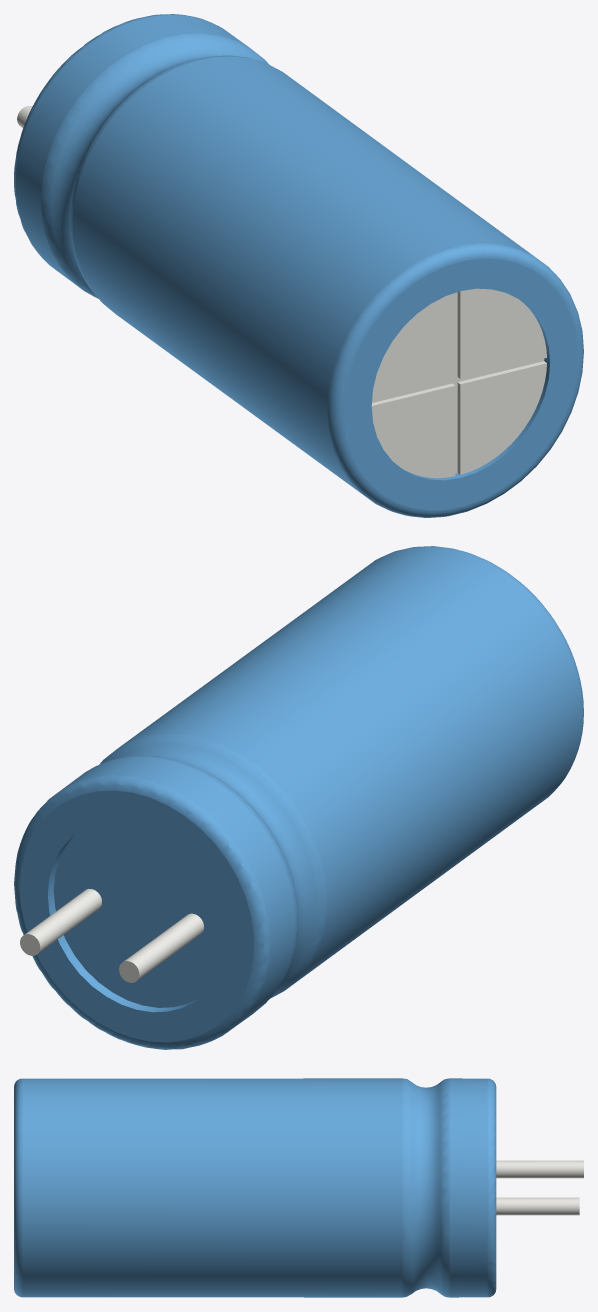
File: C_Radial_D5.0mm_H11.0mm_P2.00mm.glb
3 renders of one model, top to bottom at view 1: azimuth 30°, elevation 25°; view 2: azimuth 150°, elevation 25°; view 3: azimuth 270°, elevation 25°, orthographic. The views are drawn at different scales.
Parts seen in each view (by area): view 1: Shape_IndexedFaceSet.012, Shape_IndexedFaceSet.014, Shape_IndexedFaceSet.008, Shape_IndexedFaceSet.013, Shape_IndexedFaceSet.010, Shape_IndexedFaceSet.018, Shape_IndexedFaceSet.027, Shape_IndexedFaceSet.021, Shape_IndexedFaceSet.024, Shape_IndexedFaceSet.009, Shape_IndexedFaceSet.011, Shape_IndexedFaceSet.016 (+2 smaller); view 2: Shape_IndexedFaceSet.012, Shape_IndexedFaceSet.002, Shape_IndexedFaceSet.005, Shape_IndexedFaceSet.008, Shape_IndexedFaceSet.007, Shape_IndexedFaceSet.010, Shape_IndexedFaceSet.011, Shape_IndexedFaceSet.004, Shape_IndexedFaceSet.001, Shape_IndexedFaceSet.003, Shape_IndexedFaceSet.009, Shape_IndexedFaceSet.013; view 3: Shape_IndexedFaceSet.012, Shape_IndexedFaceSet.008, Shape_IndexedFaceSet.010, Shape_IndexedFaceSet.009, Shape_IndexedFaceSet.011, Shape_IndexedFaceSet.007, Shape_IndexedFaceSet.013, Shape_IndexedFaceSet.004, Shape_IndexedFaceSet.001.
Boxes of the visible parts, box(x1,y1,x2,y2) form: Shape_IndexedFaceSet.012: box(72, 56, 533, 492); Shape_IndexedFaceSet.014: box(344, 258, 577, 510); Shape_IndexedFaceSet.008: box(15, 14, 249, 289); Shape_IndexedFaceSet.013: box(327, 243, 583, 517); Shape_IndexedFaceSet.010: box(51, 42, 258, 289); Shape_IndexedFaceSet.018: box(460, 363, 546, 474); Shape_IndexedFaceSet.027: box(460, 288, 546, 378); Shape_IndexedFaceSet.021: box(371, 386, 455, 478); Shape_IndexedFaceSet.024: box(372, 293, 455, 400); Shape_IndexedFaceSet.009: box(41, 33, 269, 298); Shape_IndexedFaceSet.011: box(70, 55, 265, 300); Shape_IndexedFaceSet.016: box(372, 292, 544, 473); Shape_IndexedFaceSet.012: box(119, 546, 582, 989); Shape_IndexedFaceSet.002: box(53, 820, 226, 1007); Shape_IndexedFaceSet.005: box(20, 790, 253, 1042); Shape_IndexedFaceSet.008: box(64, 756, 295, 1027); Shape_IndexedFaceSet.007: box(14, 775, 270, 1049); Shape_IndexedFaceSet.010: box(110, 742, 316, 989); Shape_IndexedFaceSet.011: box(99, 733, 327, 998); Shape_IndexedFaceSet.004: box(124, 913, 203, 980); Shape_IndexedFaceSet.001: box(25, 888, 101, 953); Shape_IndexedFaceSet.003: box(47, 831, 197, 1012); Shape_IndexedFaceSet.009: box(90, 755, 297, 999); Shape_IndexedFaceSet.013: box(378, 546, 583, 796); Shape_IndexedFaceSet.012: box(22, 1078, 402, 1297); Shape_IndexedFaceSet.008: box(449, 1078, 487, 1297); Shape_IndexedFaceSet.010: box(411, 1082, 440, 1293); Shape_IndexedFaceSet.009: box(440, 1078, 449, 1297); Shape_IndexedFaceSet.011: box(402, 1078, 411, 1297); Shape_IndexedFaceSet.007: box(487, 1078, 496, 1297); Shape_IndexedFaceSet.013: box(14, 1078, 22, 1297); Shape_IndexedFaceSet.004: box(496, 1160, 583, 1178); Shape_IndexedFaceSet.001: box(496, 1197, 579, 1215).
Size of the model in its own units: 1.97 by 1.97 by 5.12.
